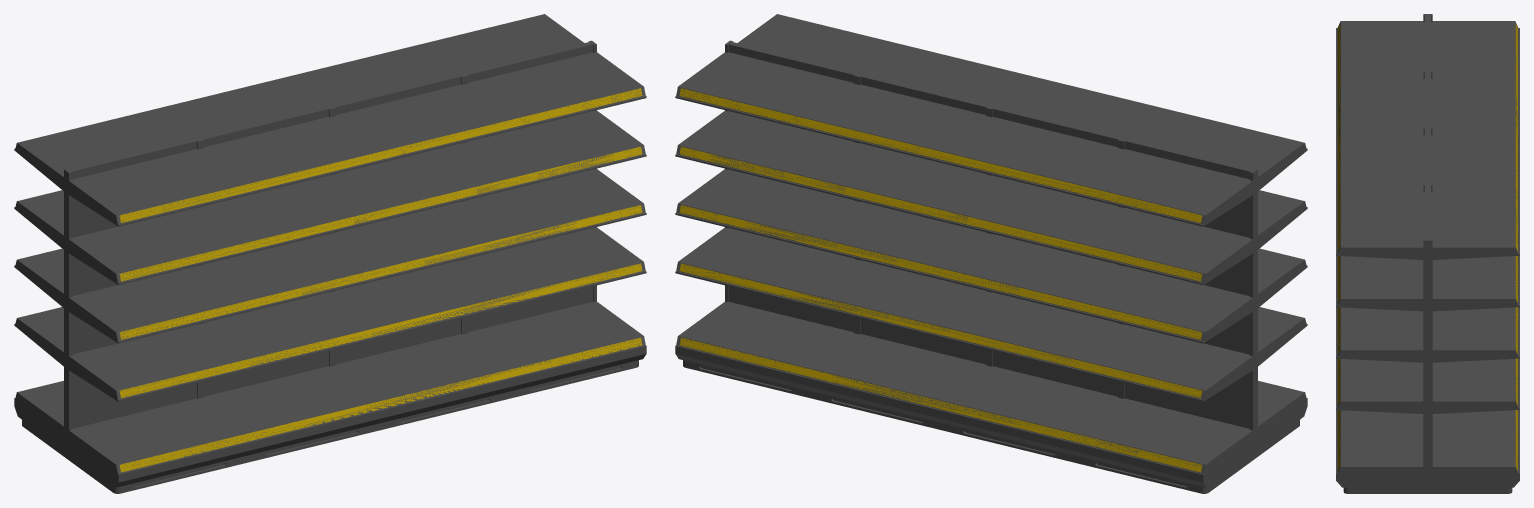
The model's file is modelRegalObojruc.dae.
3 views of the same model, side by side, from view 1: azimuth 30°, elevation 25°; view 2: azimuth 150°, elevation 25°; view 3: azimuth 270°, elevation 25° (orthographic). The views are drawn at different scales.
Visible parts, largest first — view 1: group_0 (×7); view 2: group_0 (×7); view 3: group_0 (×4).
Part boxes in pixels (x1=…): group_0 (×7): x1=14, y1=14, x2=646, y2=493; group_0 (×7): x1=675, y1=14, x2=1307, y2=493; group_0 (×4): x1=1336, y1=14, x2=1519, y2=493.
Bounding box in the file's own units: 138 × 47.24 × 72.05.
